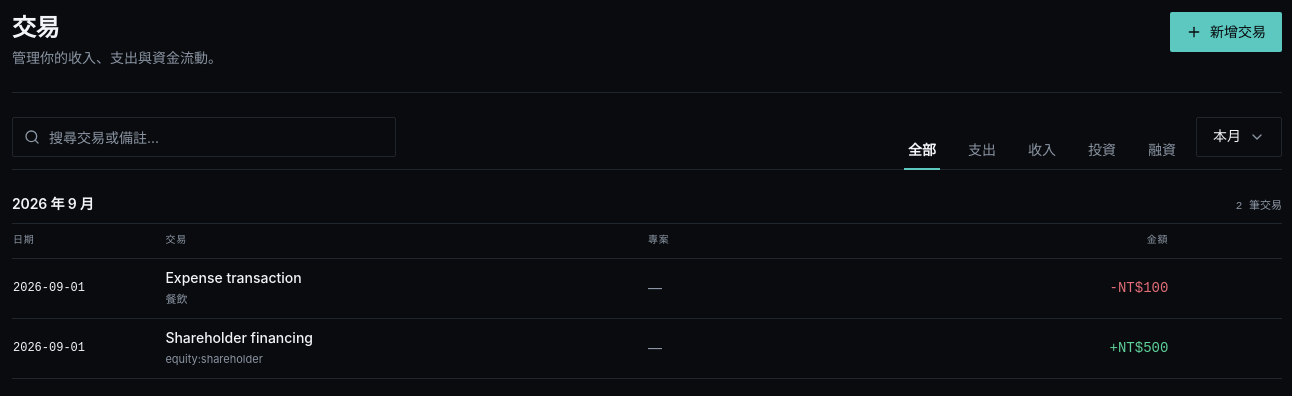
Test: TransactionsPage system filter › marks the active option with aria-pressed and a bottom border
Click the button "融資" at coordinates (1162, 153), box [1144, 136, 1180, 170]
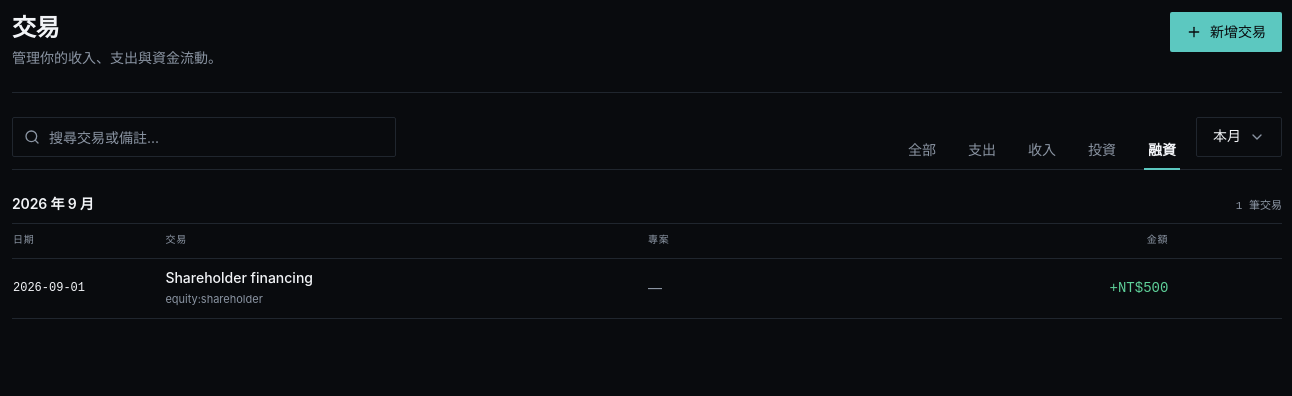
Now the text "Expense transaction" is gone
Now the text "Shareholder financing" is shown 2 times
